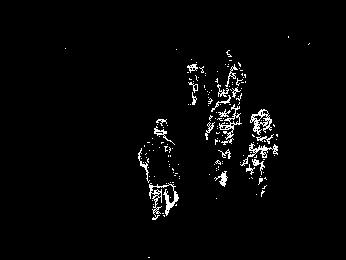person: (136, 119, 180, 220), (204, 93, 241, 188), (244, 109, 279, 197)
